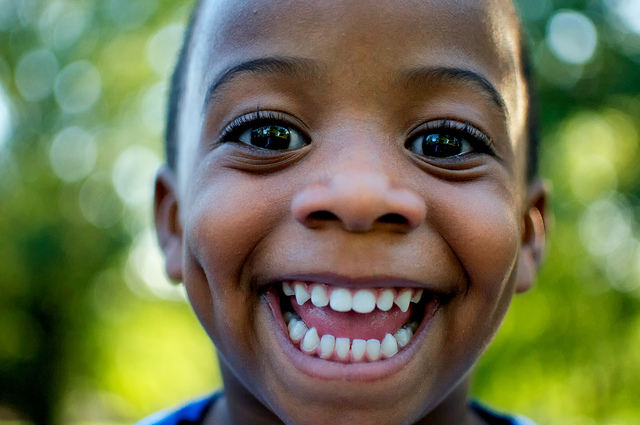happy: (168, 33, 526, 425)
